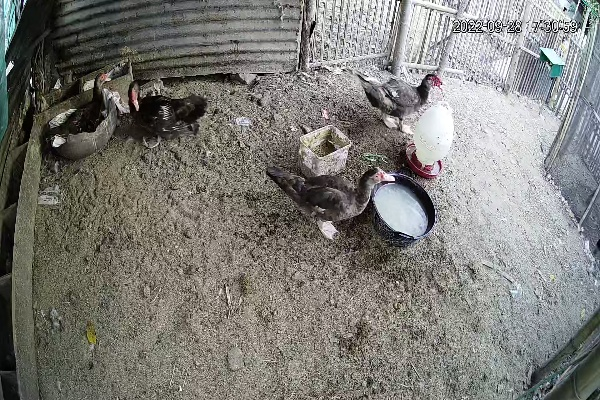Entog: (262, 160, 398, 241), (354, 66, 445, 135), (127, 78, 213, 146)
